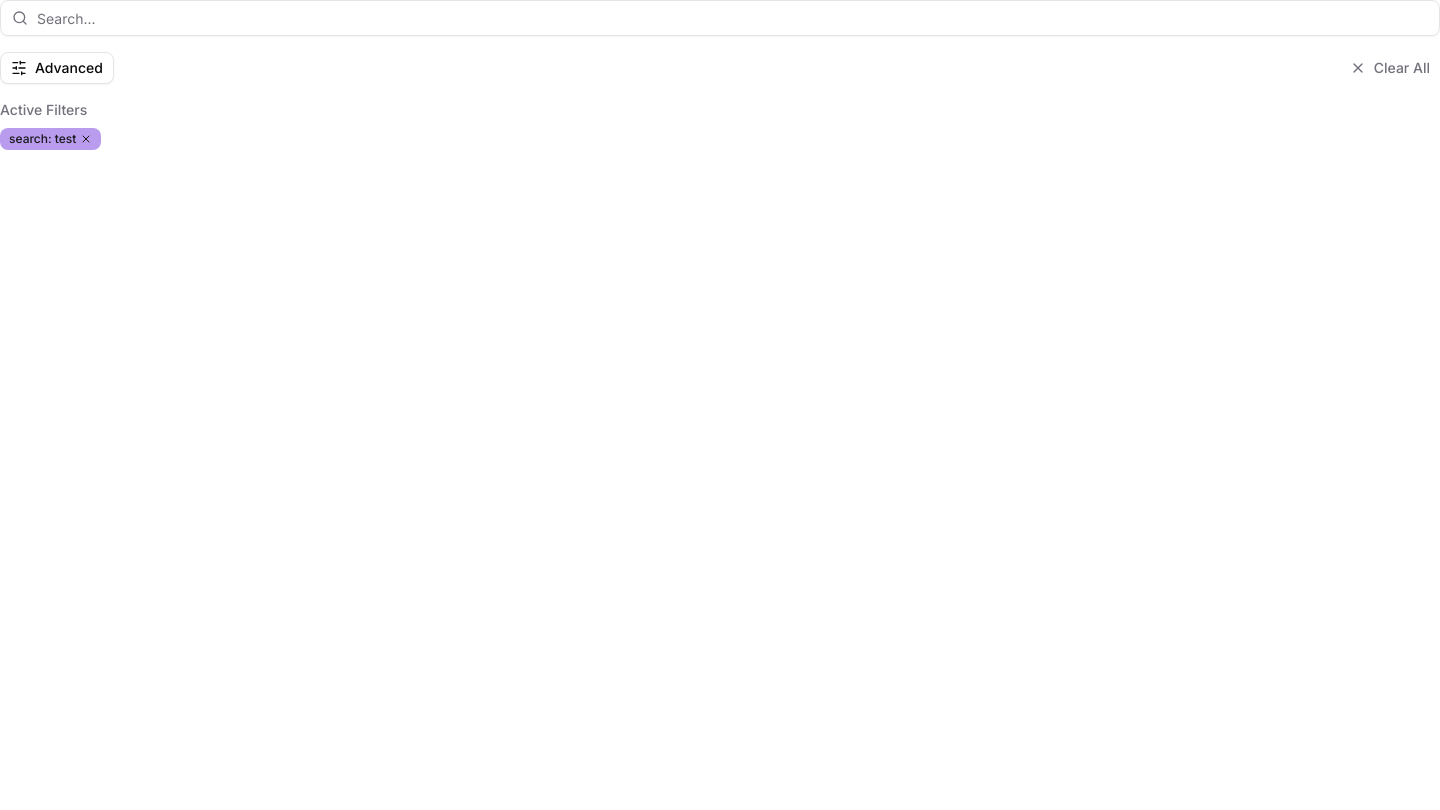
Test case: FilterControls › adds custom filters through the builder
The width and height of the screenshot is (1440, 810).
Click the button "Advanced".
click(57, 68)  # box [0,52,114,84]
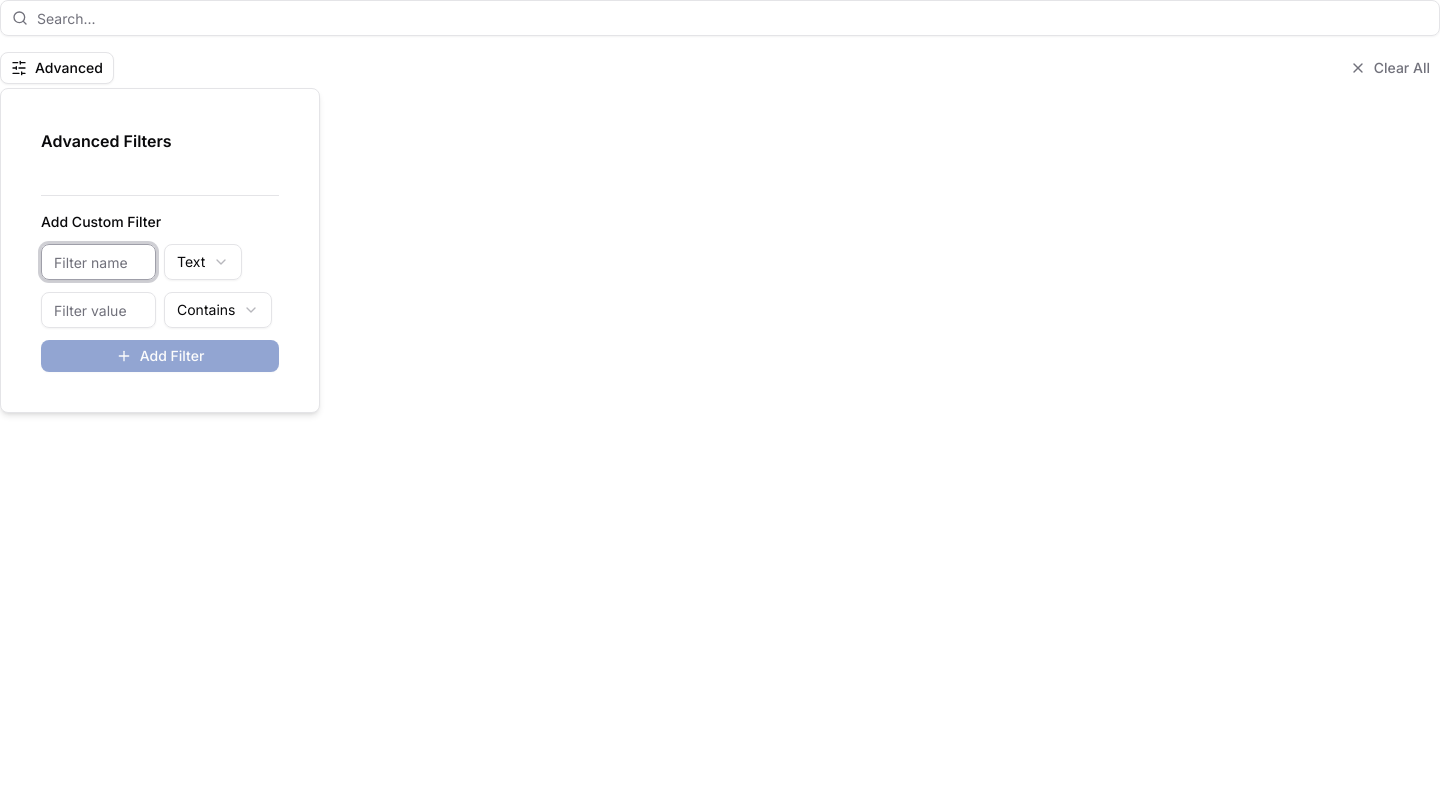
Type "custom-field" into the field with placeholder "Filter name".
click(98, 262); type("custom-field")  # box [41,244,156,280]
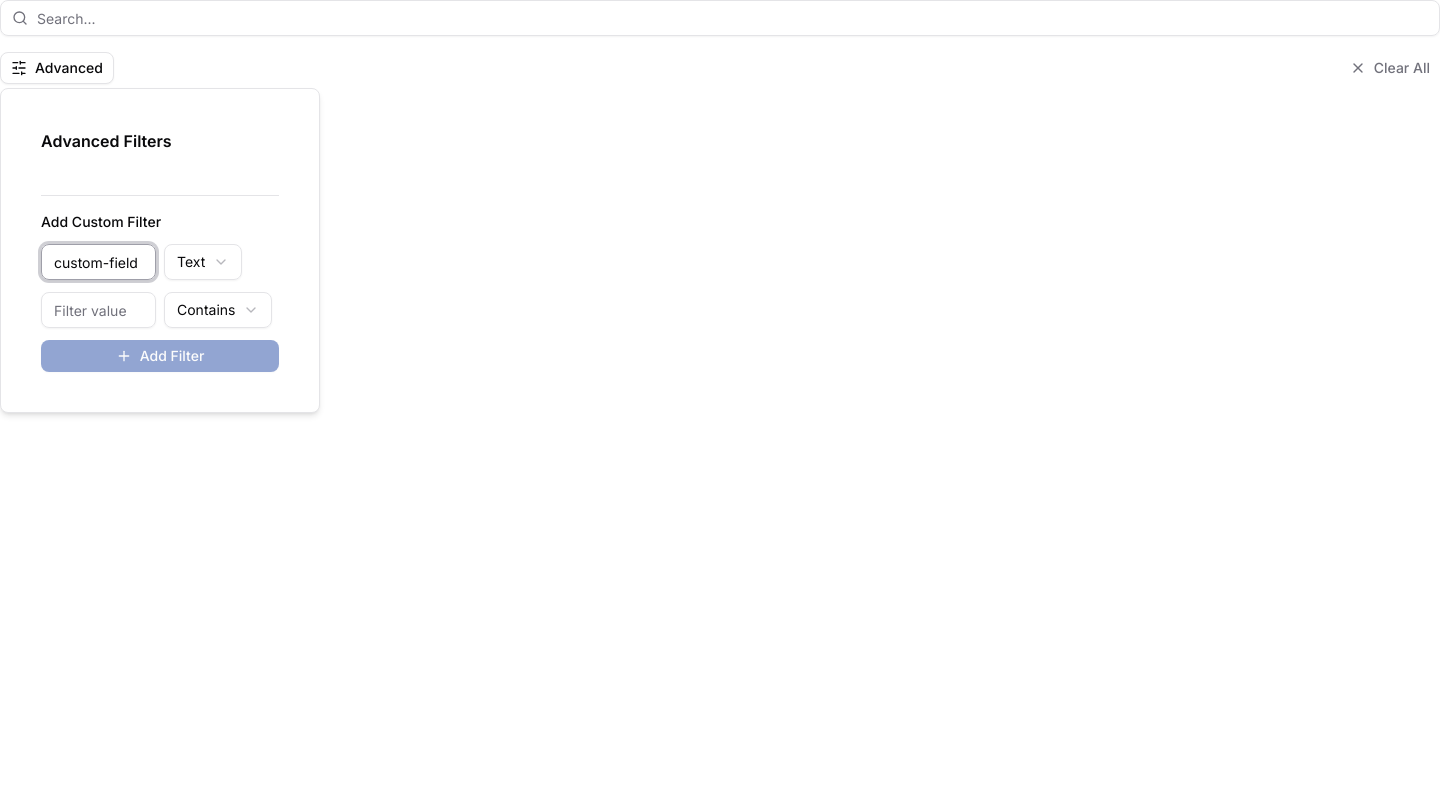
Type "custom-value" into the field with placeholder "Filter value".
click(98, 310); type("custom-value")  # box [41,292,156,328]
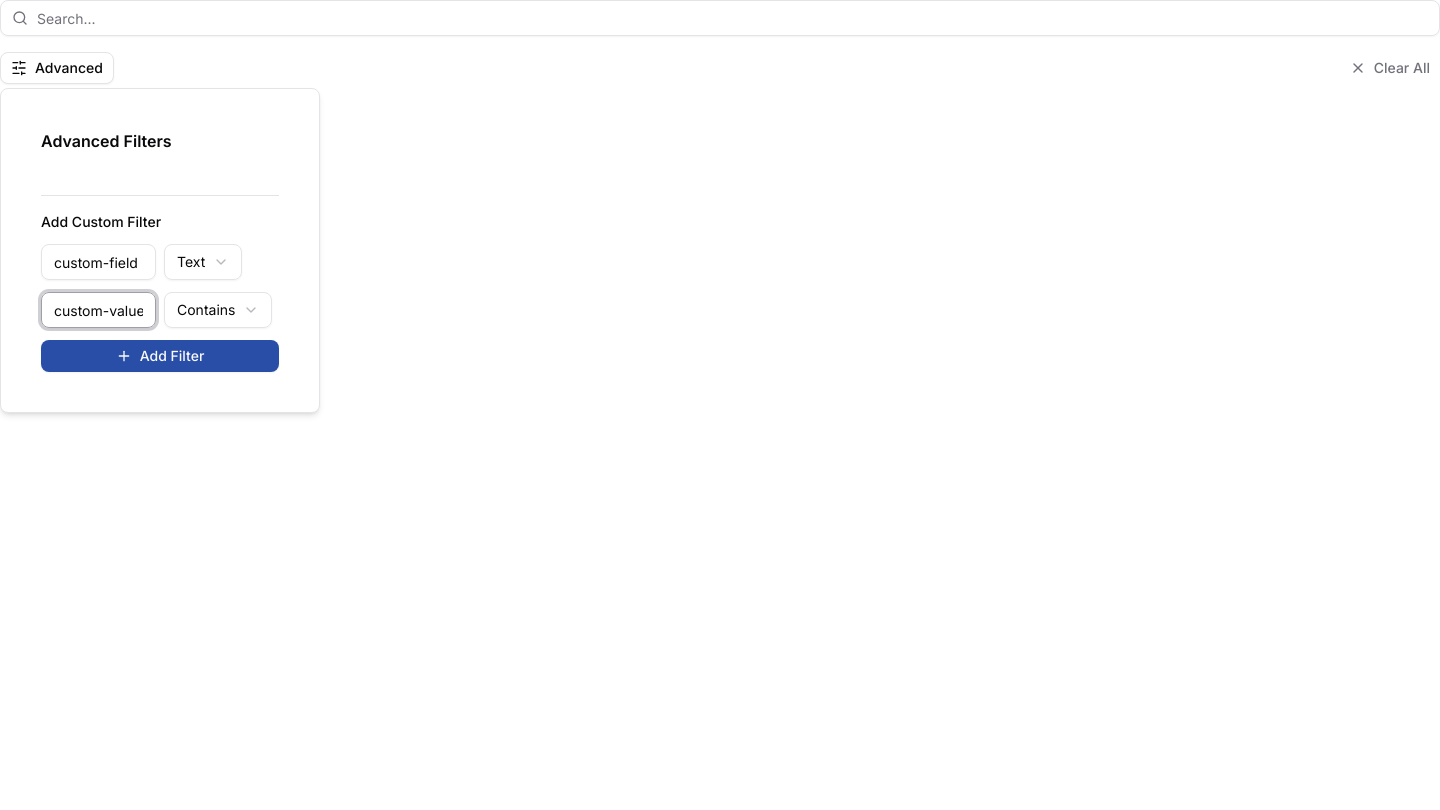
Click Add Filter button
Click the button "Add Filter".
click(160, 356)  # box [41,340,279,372]
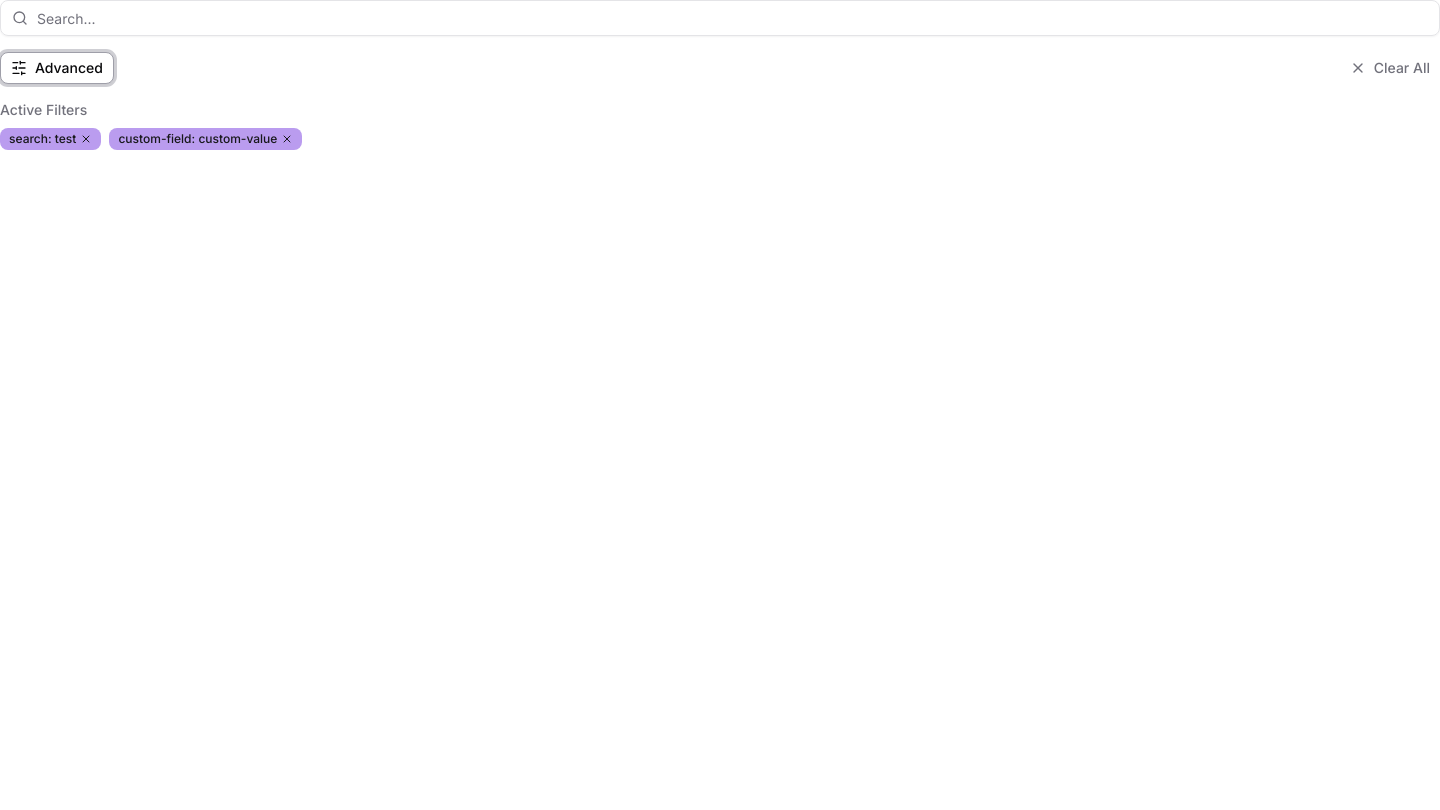
Expected: the text "Active Filters" is shown, [0,101,87,118]
Result: the text "custom-field: custom-value" is shown at [109,128,302,150]
